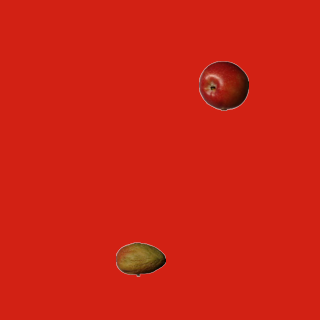Apple Braeburn: (198, 60, 248, 110)
Papaya: (115, 234, 165, 284)
